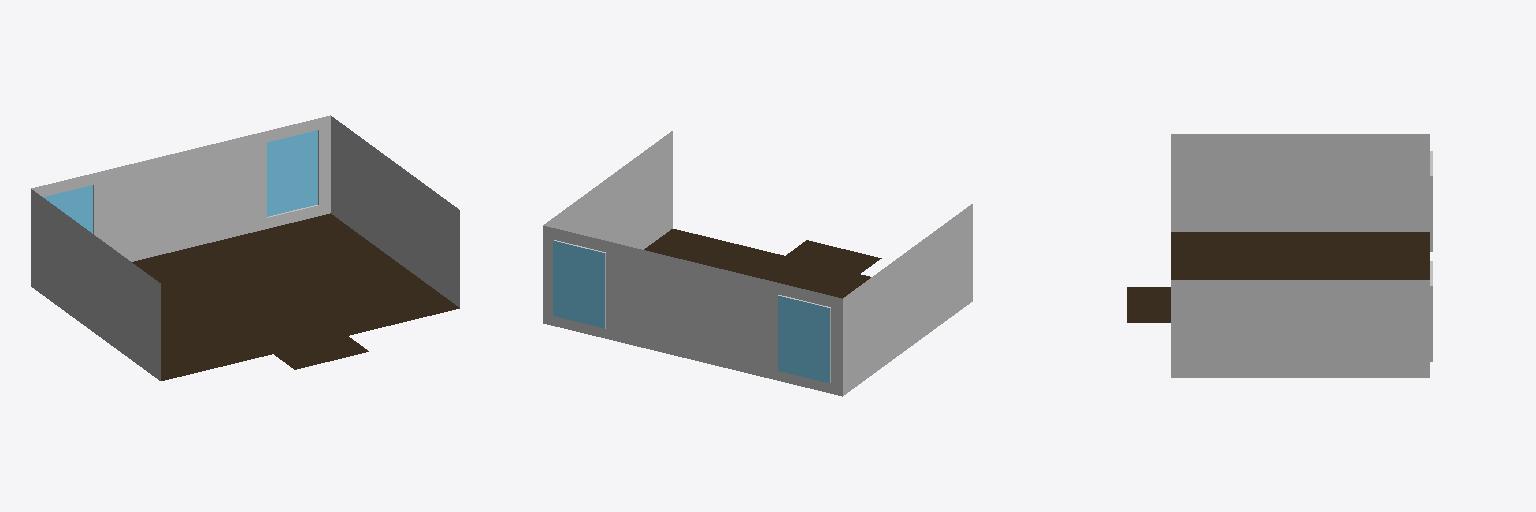
The model's file is HQ_a_room.obj.
3 renders of one model, left to right at view 1: azimuth 30°, elevation 25°; view 2: azimuth 150°, elevation 25°; view 3: azimuth 270°, elevation 25°, orthographic.
Visible parts, largest first — view 1: HQ_a_Room; view 2: HQ_a_Room; view 3: HQ_a_Room.
Part boxes in pixels (left/top/right/bottom): HQ_a_Room: left=31, top=115, right=459, bottom=380; HQ_a_Room: left=543, top=131, right=972, bottom=396; HQ_a_Room: left=1127, top=134, right=1432, bottom=377.
Bounding box in the file's own units: 30 × 9.38 × 26.44.